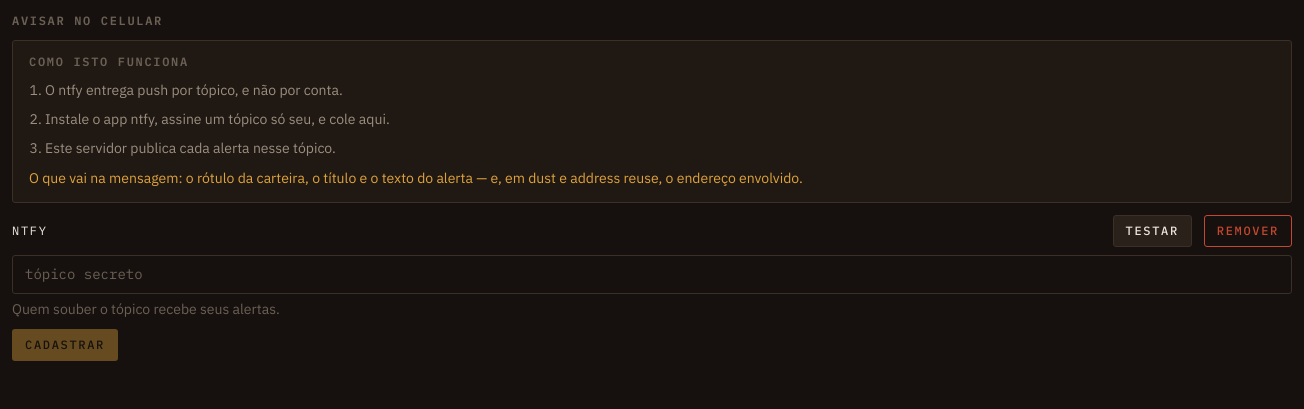
it: Channels › dispara o teste e diz que chegou
What coordinates should you click on to do the following:
click the button "Testar"
I would click on:
 (1152, 231)
Its box is [1112,215,1192,247].
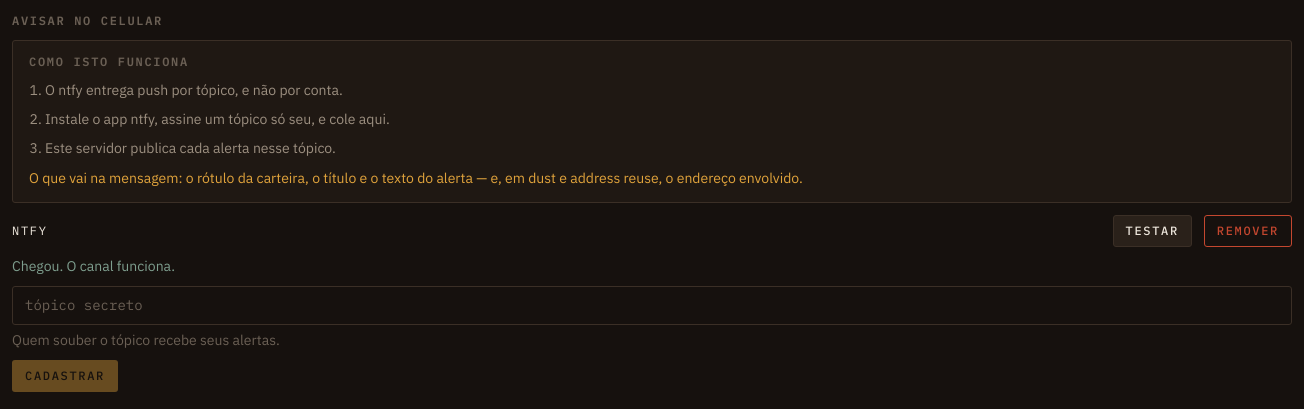
Result: the text "Chegou. O canal funciona." is shown at [12,257,175,275]
